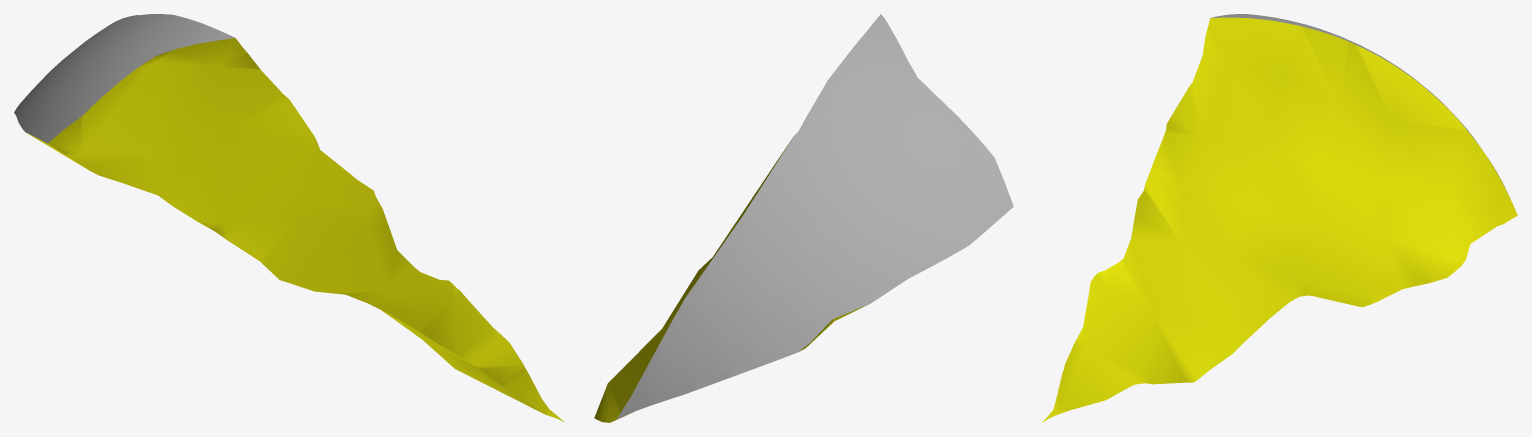
The model's file is moon_shard_3.fbx.
3 views of the same model, side by side, from view 1: azimuth 30°, elevation 25°; view 2: azimuth 150°, elevation 25°; view 3: azimuth 270°, elevation 25° (orthographic). The views are drawn at different scales.
Visible parts, largest first — view 1: shard3; view 2: shard3; view 3: shard3.
Boxes of the visible parts, x1,y1,x2,y2 form: shard3: (14,14,564,422); shard3: (594,14,1013,422); shard3: (1042,14,1517,422).
Size of the model in its own units: 18.91 by 17.51 by 24.36.
